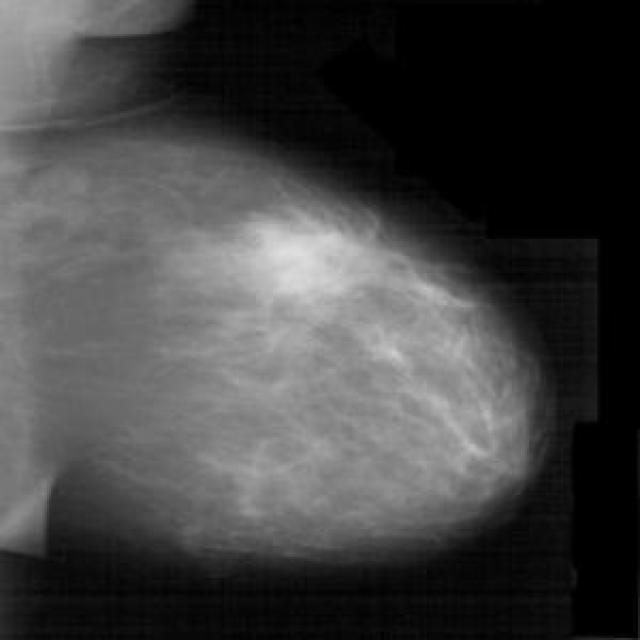tumor: (218, 200, 392, 322)
